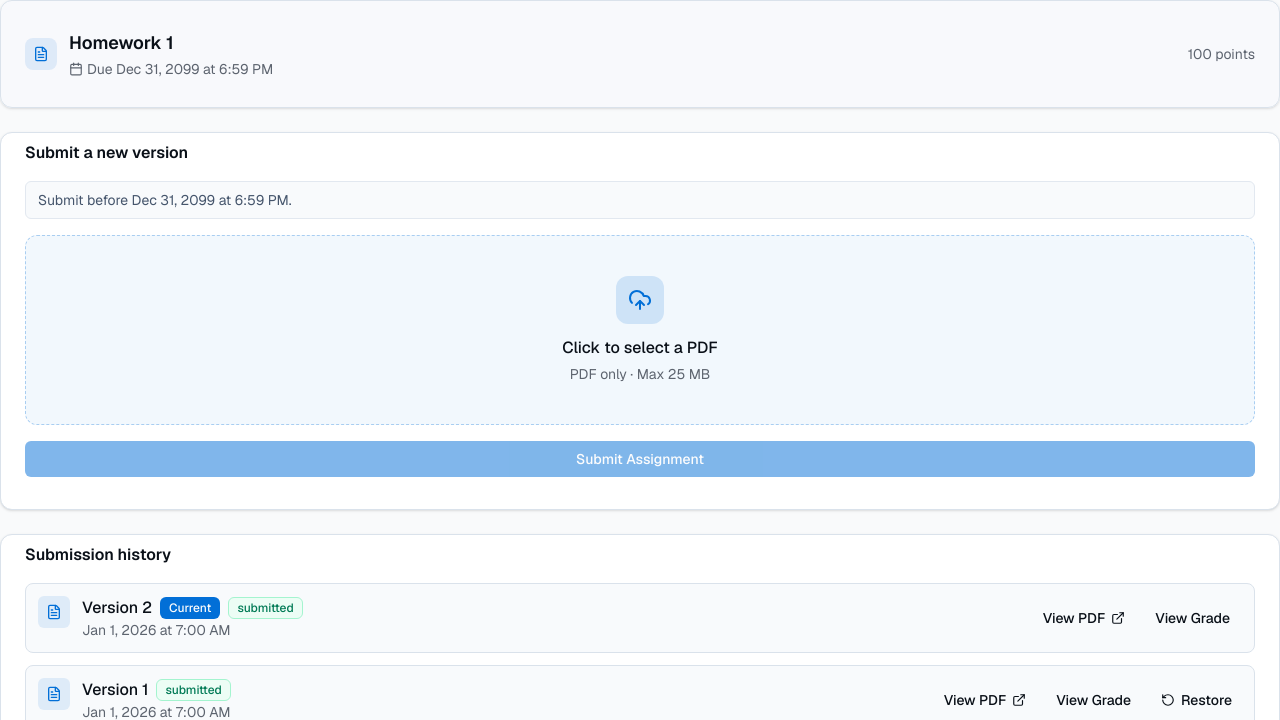
Scenario: restoreSubmission › shows fallback error on network failure during restore
The width and height of the screenshot is (1280, 720).
Click the button "Restore".
click(1196, 700)  # box [1151,684,1242,716]
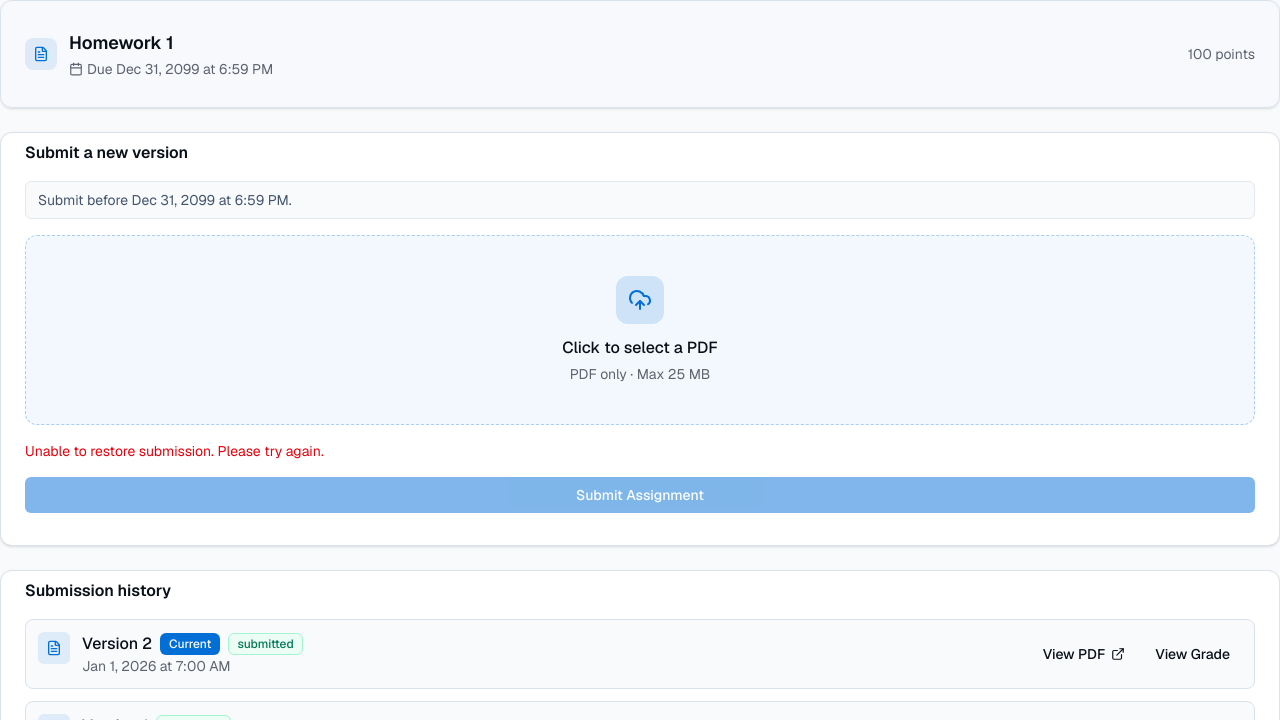
Result: the text "Unable to restore submission. Please try again." is shown at [25,442,324,460]
